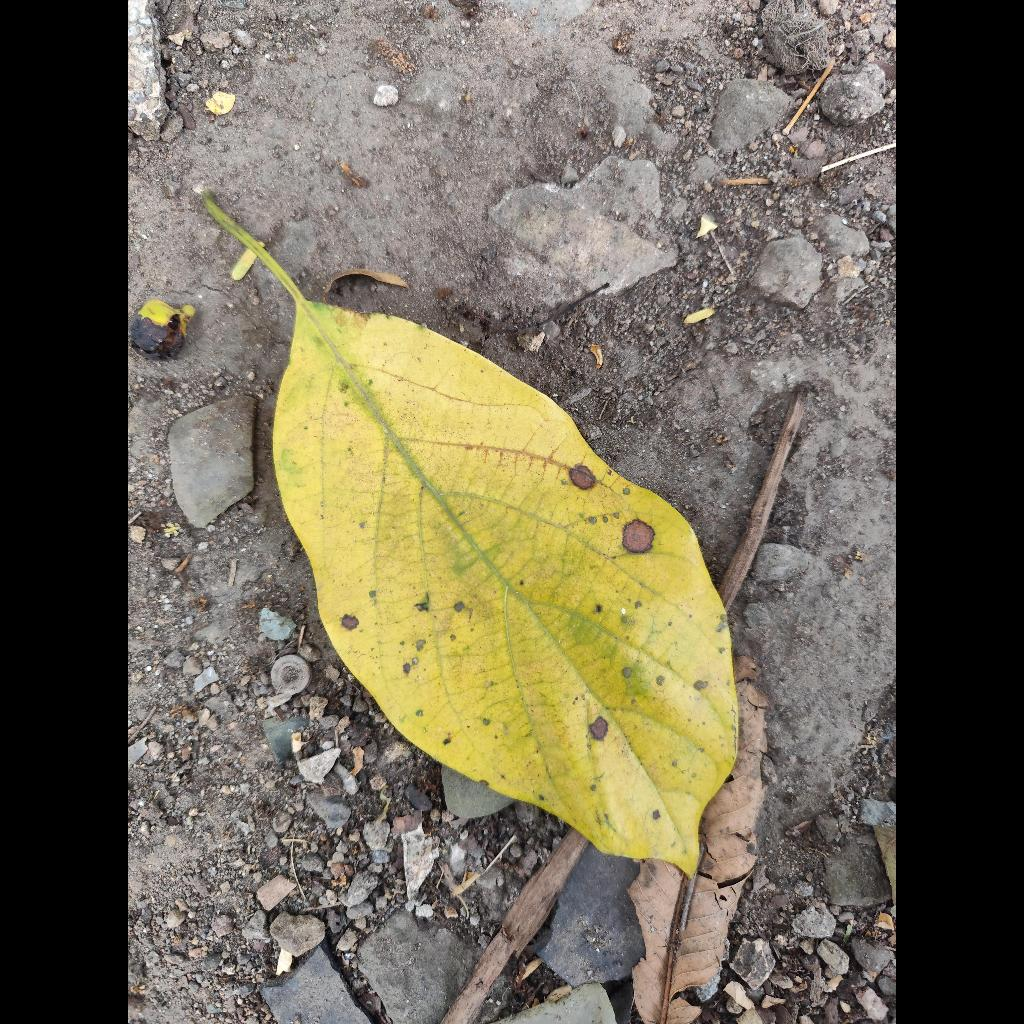nutrient_deficiency: (263, 256, 738, 871)
